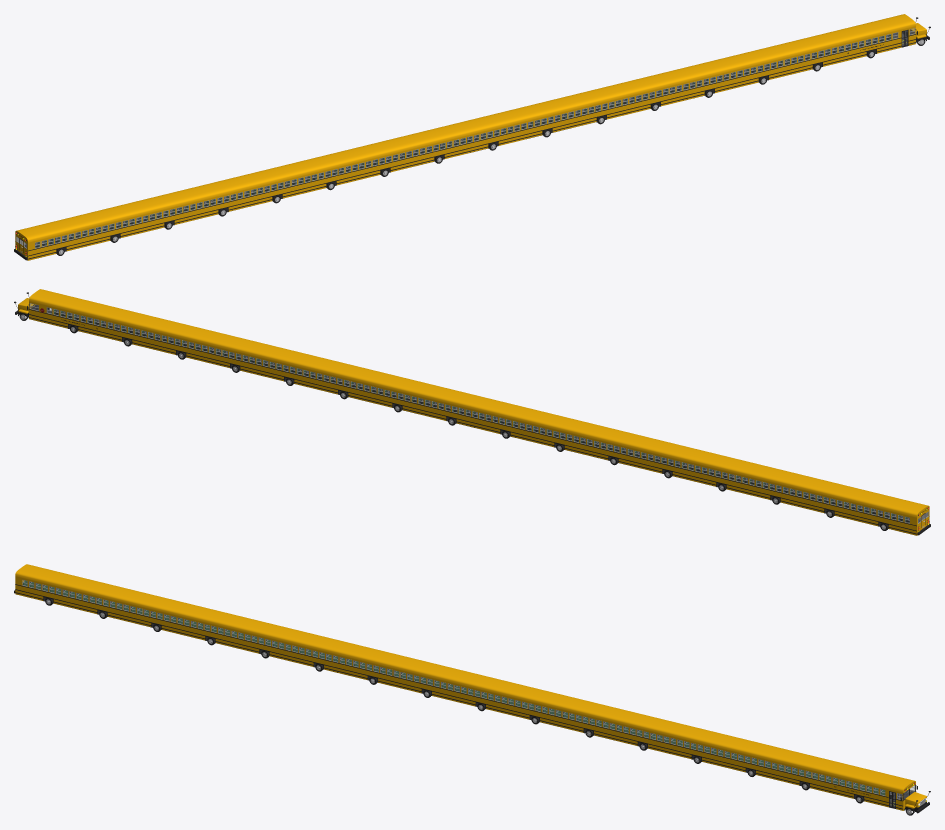
Rendered from BUS.glb.
3 views of the same model, one above another, from view 1: azimuth 30°, elevation 25°; view 2: azimuth 150°, elevation 25°; view 3: azimuth 330°, elevation 25° (orthographic).
Visible parts, largest first — view 1: BUS; view 2: BUS; view 3: BUS.
Boxes of the visible parts, x1,y1,x2,y2 form: BUS: (14, 14, 930, 260); BUS: (14, 289, 930, 535); BUS: (14, 564, 930, 815).
Bounding box in the file's own units: 115 × 3.12 × 3.72.
Materials: 19 (1 with a texture image).
